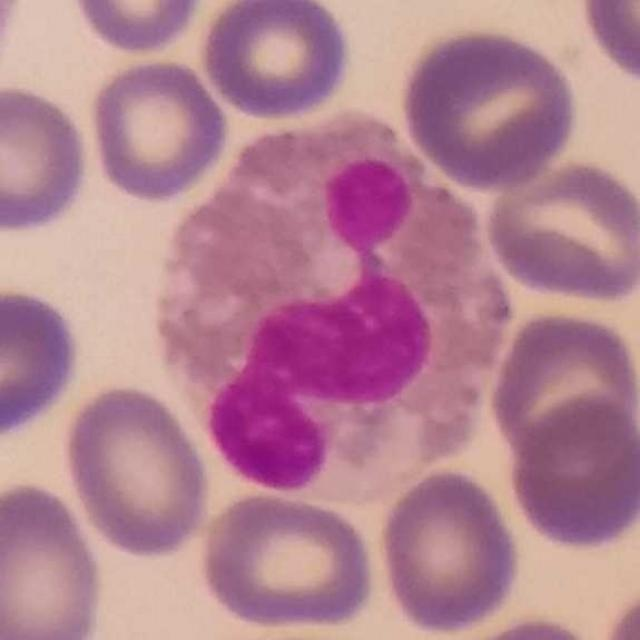Eosinophil: (151, 113, 514, 496)
RBC: (397, 23, 582, 194), (59, 380, 214, 562), (194, 488, 380, 634), (373, 464, 525, 638), (484, 306, 640, 466), (481, 155, 639, 307), (84, 53, 232, 205), (502, 391, 640, 554), (195, 0, 356, 122), (0, 477, 108, 640), (0, 79, 95, 238), (0, 283, 86, 445), (67, 0, 208, 57), (574, 0, 640, 88), (432, 611, 609, 640), (596, 575, 640, 639), (0, 0, 29, 90)
